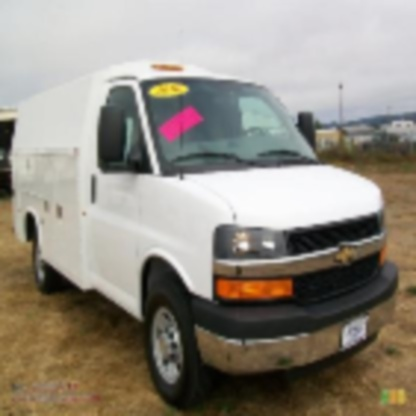Vehicle: (10, 26, 404, 416)
